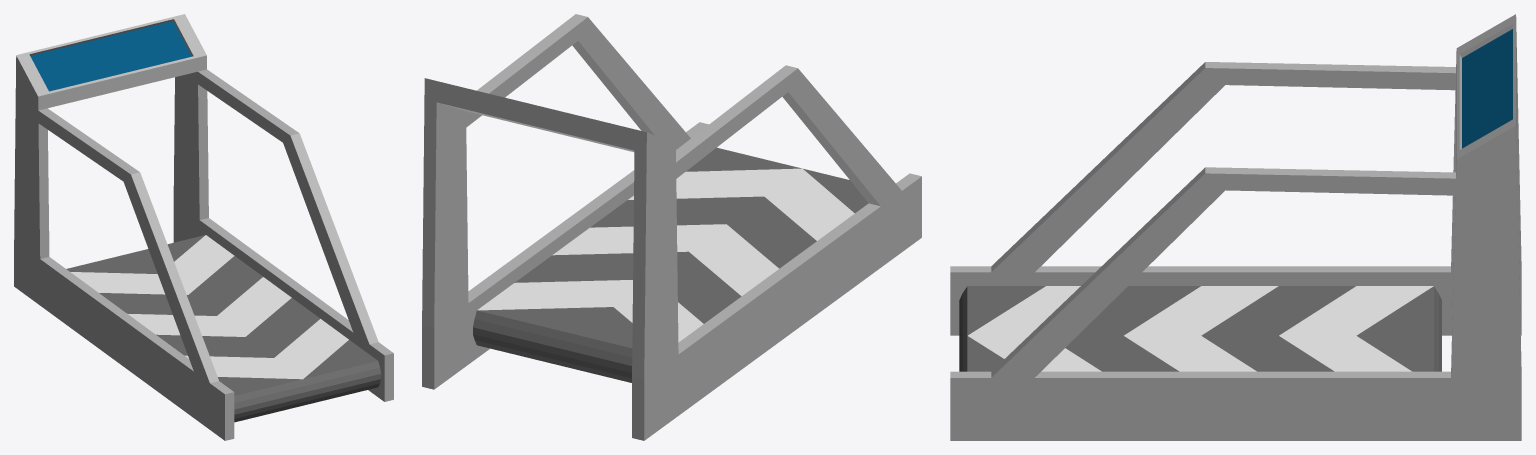
File: band.fbx
The picture shows the model from 3 angles, left to right: view 1: azimuth 30°, elevation 25°; view 2: azimuth 150°, elevation 25°; view 3: azimuth 270°, elevation 25°; orthographic projection. The views are drawn at different scales.
Parts seen in each view (by area): view 1: koşubandı; view 2: koşubandı; view 3: koşubandı.
Part boxes in pixels (<box>): koşubandı: <box>14,14,393,440</box>; koşubandı: <box>422,14,921,440</box>; koşubandı: <box>950,14,1521,440</box>.
Size of the model in its own units: 225 by 296 by 486.
